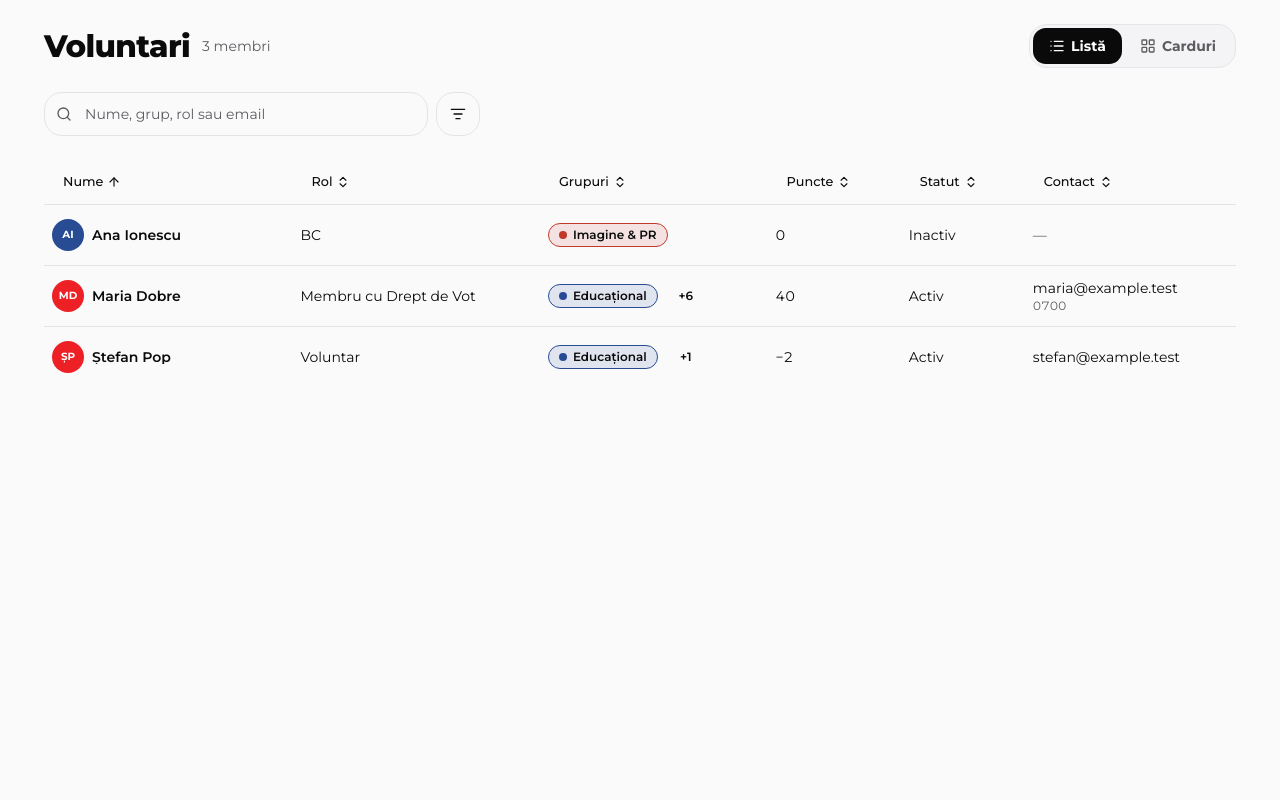
Member directory › opens the Member Card from "+n"
This screenshot has width=1280, height=800.
Click the button named "+6 grupuri. Vezi profilul membrului Maria Dobre": (686,296) [664,274,708,318]
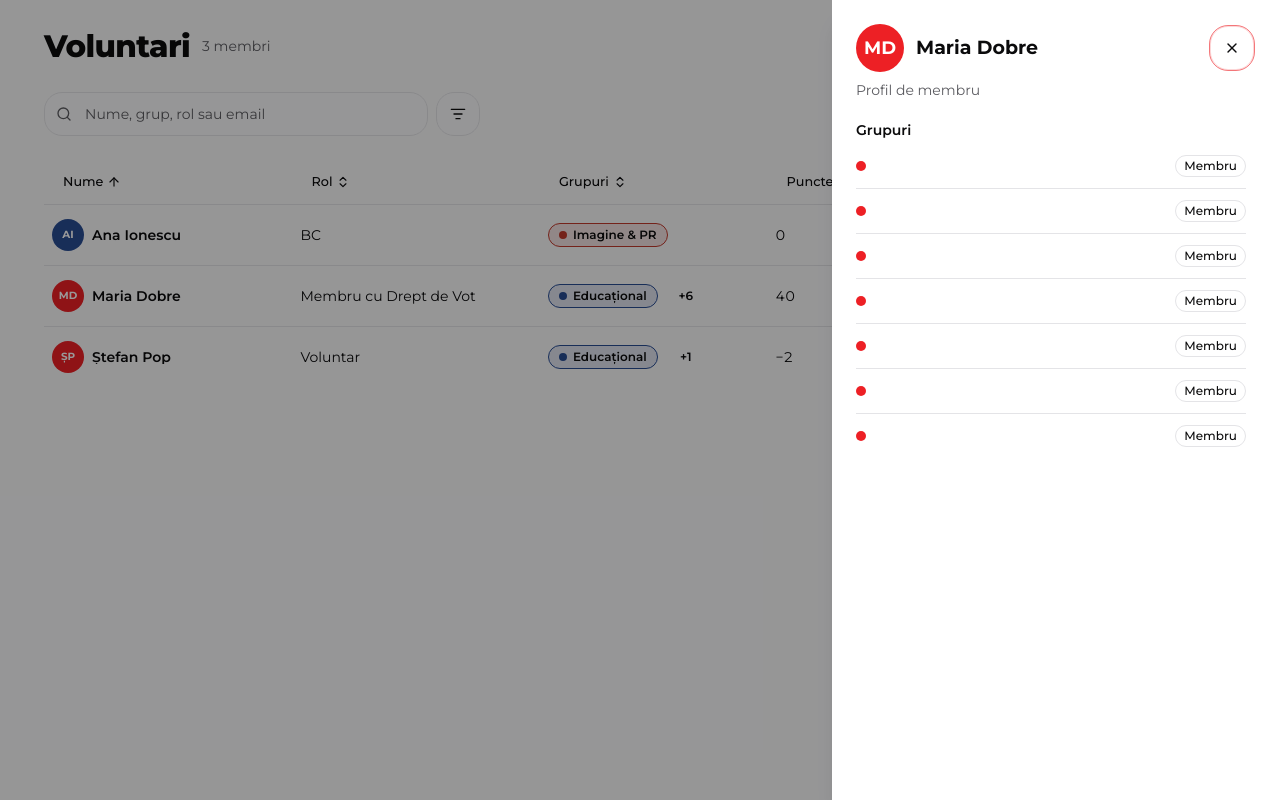
Check: the dialog "Maria Dobre" does not show "puncte", box [832,0,1279,799]
Check: the number of list items is 7
